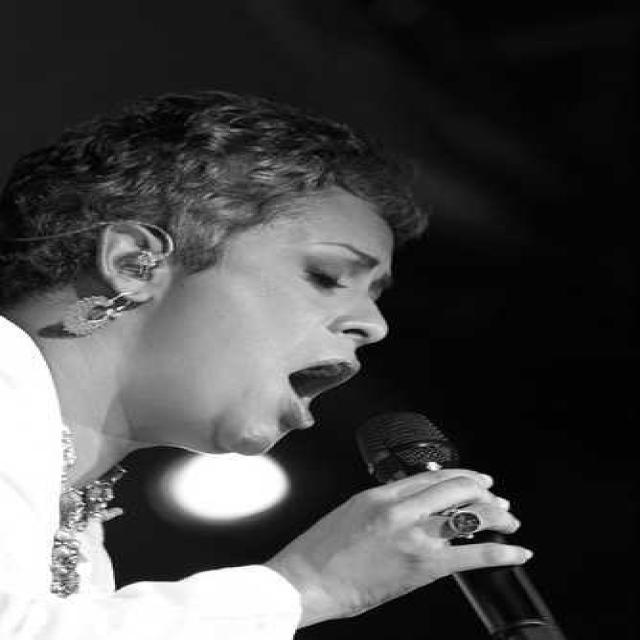microphone: (359, 408, 591, 640)
